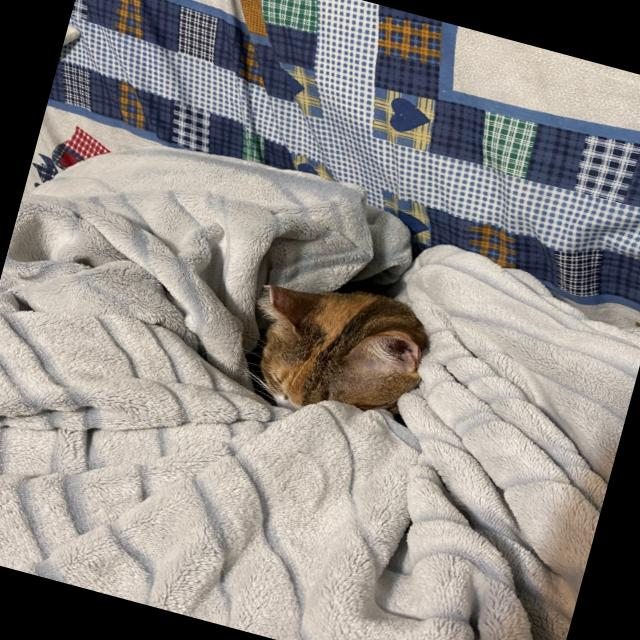cat2: (230, 262, 448, 446)
